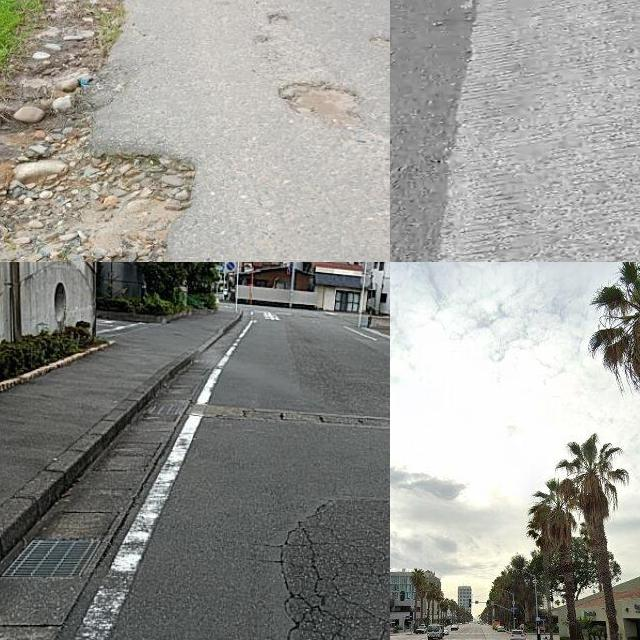Lubang: (270, 79, 363, 129)
Pinggir: (0, 0, 209, 262)
Sambungan: (434, 0, 640, 262), (276, 501, 390, 640)
